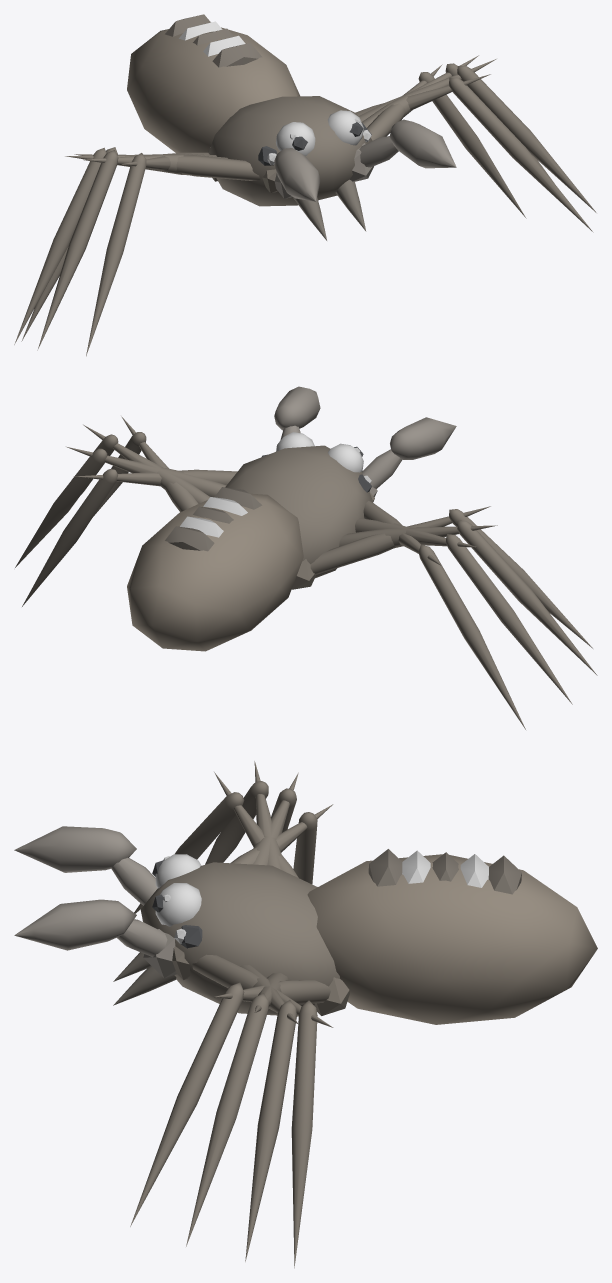
Rendered from pandercetes-plumipes.glb.
3 renders of one model, top to bottom at view 1: azimuth 30°, elevation 25°; view 2: azimuth 150°, elevation 25°; view 3: azimuth 270°, elevation 25°, orthographic. The views are drawn at different scales.
Parts seen in each view (by area): view 1: abdomen, cephalothorax, leg3-l0, leg2-r0, leg3-r0, leg2-l0, leg1-r0, leg0-l0, leg0-r0, palp-l1, palp-r1, eye0-r (+5 smaller); view 2: abdomen, cephalothorax, leg2-r0, leg1-r0, leg0-r0, leg3-r0, leg0-l0, leg1-l0, palp-r1, palp-l1, leg3-l0, leg2-l0 (+3 smaller); view 3: abdomen, cephalothorax, leg0-l0, leg3-l0, leg1-l0, leg2-l0, palp-l1, palp-r1, leg3-r0, leg2-r0, leg0-r0, eye0-l (+5 smaller).
Boxes of the visible parts, bbox=[...] form: abdomen: bbox=[127, 14, 299, 153]; cephalothorax: bbox=[207, 96, 373, 206]; leg3-l0: bbox=[355, 74, 593, 232]; leg2-r0: bbox=[37, 150, 216, 350]; leg3-r0: bbox=[86, 152, 209, 356]; leg2-l0: bbox=[358, 59, 596, 212]; leg1-r0: bbox=[14, 147, 227, 344]; leg0-l0: bbox=[367, 64, 526, 218]; leg0-r0: bbox=[21, 147, 260, 341]; palp-l1: bbox=[390, 119, 456, 168]; palp-r1: bbox=[274, 148, 320, 201]; eye0-r: bbox=[276, 122, 315, 155]; abdomen: bbox=[127, 487, 303, 651]; cephalothorax: bbox=[225, 445, 377, 589]; leg2-r0: bbox=[339, 520, 597, 675]; leg1-r0: bbox=[355, 518, 572, 704]; leg0-r0: bbox=[363, 501, 525, 729]; leg3-r0: bbox=[310, 506, 592, 648]; leg0-l0: bbox=[22, 469, 237, 606]; leg1-l0: bbox=[15, 446, 226, 567]; palp-r1: bbox=[390, 417, 456, 459]; palp-l1: bbox=[274, 386, 320, 430]; leg3-l0: bbox=[93, 416, 198, 516]; leg2-l0: bbox=[75, 424, 209, 503]; abdomen: bbox=[307, 849, 597, 1024]; cephalothorax: bbox=[140, 862, 349, 1016]; leg0-l0: bbox=[192, 954, 333, 1268]; leg3-l0: bbox=[130, 980, 330, 1226]; leg1-l0: bbox=[240, 965, 298, 1261]; leg2-l0: bbox=[186, 973, 288, 1246]; palp-l1: bbox=[14, 899, 136, 950]; palp-r1: bbox=[14, 826, 136, 872]; leg3-r0: bbox=[134, 772, 298, 913]; leg2-r0: bbox=[205, 761, 281, 869]; leg0-r0: bbox=[230, 804, 333, 883]; eye0-l: bbox=[152, 883, 201, 926].
Bounding box in the file's own units: 0.7098 × 0.2503 × 0.5139.
